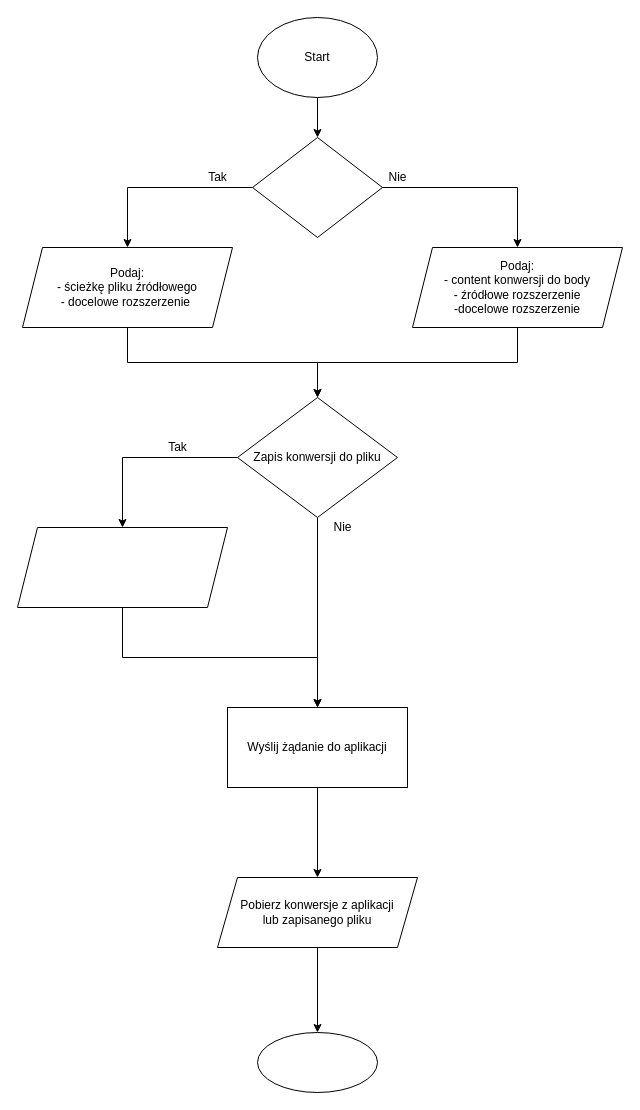
Image size: 640x1110. Some labels were removed from this diagram. The shapes that lost their labels are listed below. From the top down, each one's centre as x and y in pixels, then its label:
At (317,187): "Konwersja z pliku".
At (122,567): "Podaj: - ścieżkę pliku docelowego".
At (317,1062): "Stop".
